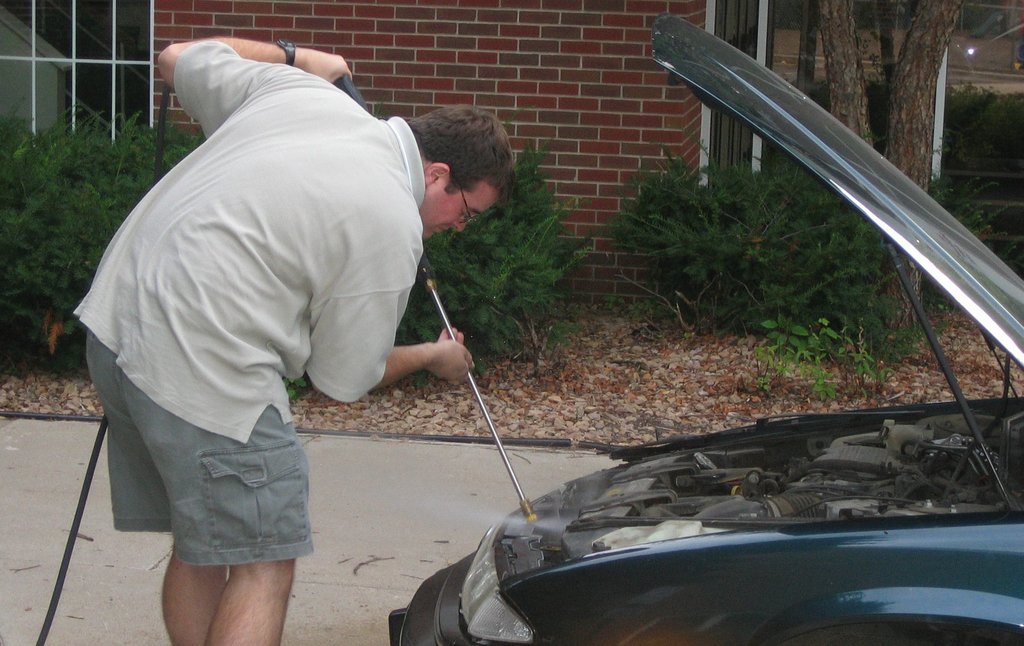cars: (385, 11, 1023, 645)
